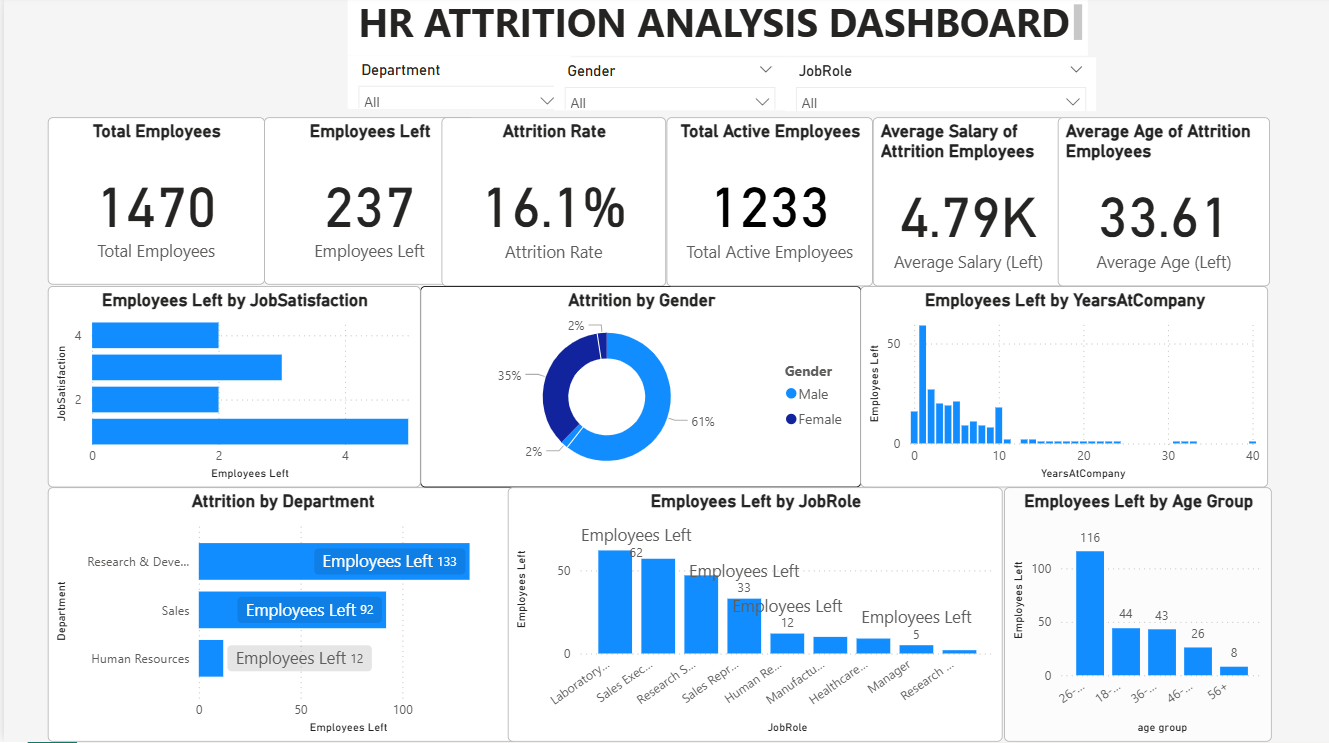

Layout of this report page (visuals, bound fields, positions):
{"tool":"powerbi","page":{"name":"Page 1","canvas":[1280,720],"ordinal":0},"visuals":[{"type":"card","title":"Total Employees","fields":{"Values":["WA_Fn-UseC_-HR-Employee-Attriti.Total Employees"]},"box":[41.8,116.9,209.2,161.6],"z":0},{"type":"card","title":"Employees Left","fields":{"Values":["WA_Fn-UseC_-HR-Employee-Attriti.Employees Left"]},"box":[251,116.9,203.4,161.6],"z":1000},{"type":"card","title":"Attrition Rate","fields":{"Values":["WA_Fn-UseC_-HR-Employee-Attriti.Attrition Rate"]},"box":[422.7,116.9,216.4,163],"z":2000},{"type":"clusteredBarChart","title":"Attrition by Department","fields":{"Category":["WA_Fn-UseC_-HR-Employee-Attriti.Department"],"Y":["WA_Fn-UseC_-HR-Employee-Attriti.Employees Left"]},"box":[41.8,474.7,453,245.3],"z":3000},{"type":"clusteredColumnChart","fields":{"Y":["WA_Fn-UseC_-HR-Employee-Attriti.Employees Left"],"Category":["WA_Fn-UseC_-HR-Employee-Attriti.Age Group"]},"box":[965.2,474.7,258.3,245.3],"z":4000},{"type":"donutChart","title":"Attrition by Gender","fields":{"Category":["WA_Fn-UseC_-HR-Employee-Attriti.Gender"],"Y":["WA_Fn-UseC_-HR-Employee-Attriti.Employees Left","WA_Fn-UseC_-HR-Employee-Attriti.Average Tenure (Left)"]},"box":[401.6,279.9,426,194.7],"z":5000},{"type":"clusteredColumnChart","fields":{"Category":["WA_Fn-UseC_-HR-Employee-Attriti.JobRole"],"Y":["WA_Fn-UseC_-HR-Employee-Attriti.Employees Left"]},"box":[486.2,474.7,477.6,245.3],"z":6000},{"type":"clusteredColumnChart","fields":{"Category":["WA_Fn-UseC_-HR-Employee-Attriti.YearsAtCompany"],"Y":["WA_Fn-UseC_-HR-Employee-Attriti.Employees Left"]},"box":[826.7,279.9,393.9,194.8],"z":7000},{"type":"card","title":"Total Active Employees","fields":{"Values":["WA_Fn-UseC_-HR-Employee-Attriti.Total Active Employees"]},"box":[639.1,116.9,199.1,163],"z":8000},{"type":"card","title":"Average Salary of Attrition Employees","fields":{"Values":["WA_Fn-UseC_-HR-Employee-Attriti.Average Salary (Left)"]},"box":[838.2,116.9,184.7,163],"z":9000},{"type":"card","title":"Average Age of Attrition Employees","fields":{"Values":["WA_Fn-UseC_-HR-Employee-Attriti.Average Age (Left)"]},"box":[1017.1,116.9,204.9,163],"z":10000},{"type":"clusteredBarChart","fields":{"Category":["WA_Fn-UseC_-HR-Employee-Attriti.JobSatisfaction"],"Y":["WA_Fn-UseC_-HR-Employee-Attriti.Employees Left"]},"box":[41.7,279.9,359.9,194.7],"z":11000},{"type":"textbox","box":[331.8,0,714.2,57.7],"z":12000},{"type":"slicer","fields":{"Values":["WA_Fn-UseC_-HR-Employee-Attriti.Department"]},"box":[331.8,57.7,215,50.5],"z":12001},{"type":"slicer","fields":{"Values":["WA_Fn-UseC_-HR-Employee-Attriti.Gender"]},"box":[530.9,59.2,223.6,50.5],"z":12002},{"type":"slicer","fields":{"Values":["WA_Fn-UseC_-HR-Employee-Attriti.JobRole"]},"box":[754.6,59.2,300.1,51.9],"z":12003}]}

Visuals, with their boxes in screenshot pixels (x1, y1, x2, y2), scaled from the page's 1280x720 canvas onto the 1329x743 screenshot:
"Total Employees" card: detection(43, 121, 261, 287)
"Employees Left" card: detection(261, 121, 472, 287)
"Attrition Rate" card: detection(439, 121, 664, 289)
"Attrition by Department" clusteredBarChart: detection(43, 490, 514, 742)
clusteredColumnChart - WA_Fn-UseC_-HR-Employee-Attriti.Employees Left x WA_Fn-UseC_-HR-Employee-Attriti.Age Group: detection(1002, 490, 1270, 742)
"Attrition by Gender" donutChart: detection(417, 289, 859, 490)
clusteredColumnChart - WA_Fn-UseC_-HR-Employee-Attriti.JobRole x WA_Fn-UseC_-HR-Employee-Attriti.Employees Left: detection(505, 490, 1001, 742)
clusteredColumnChart - WA_Fn-UseC_-HR-Employee-Attriti.YearsAtCompany x WA_Fn-UseC_-HR-Employee-Attriti.Employees Left: detection(858, 289, 1267, 490)
"Total Active Employees" card: detection(664, 121, 870, 289)
"Average Salary of Attrition Employees" card: detection(870, 121, 1062, 289)
"Average Age of Attrition Employees" card: detection(1056, 121, 1269, 289)
clusteredBarChart - WA_Fn-UseC_-HR-Employee-Attriti.JobSatisfaction x WA_Fn-UseC_-HR-Employee-Attriti.Employees Left: detection(43, 289, 417, 490)
textbox: detection(345, 0, 1086, 60)
slicer - WA_Fn-UseC_-HR-Employee-Attriti.Department: detection(345, 60, 568, 112)
slicer - WA_Fn-UseC_-HR-Employee-Attriti.Gender: detection(551, 61, 783, 113)
slicer - WA_Fn-UseC_-HR-Employee-Attriti.JobRole: detection(783, 61, 1095, 115)
